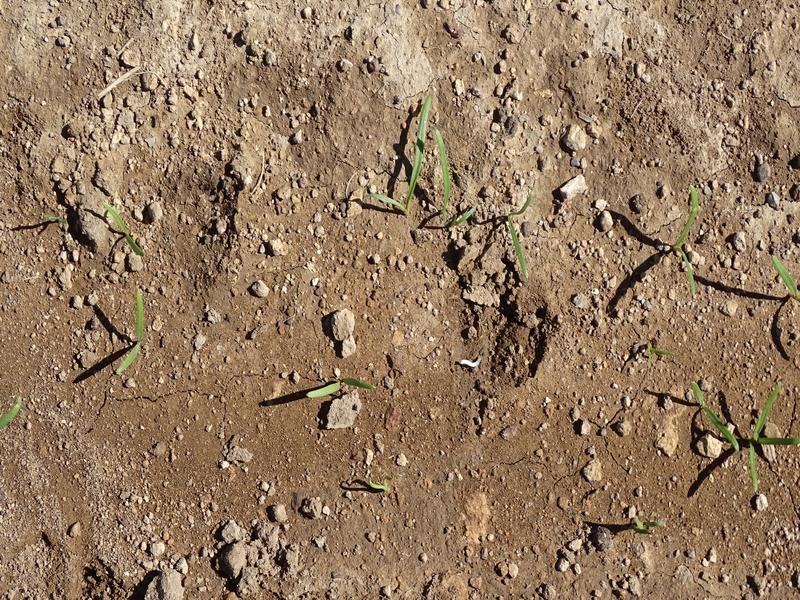Espinaca: (375, 95, 437, 215), (738, 381, 798, 492), (428, 127, 479, 225), (686, 378, 739, 452), (674, 183, 705, 301), (498, 190, 537, 279), (115, 288, 150, 373), (307, 370, 379, 398)
